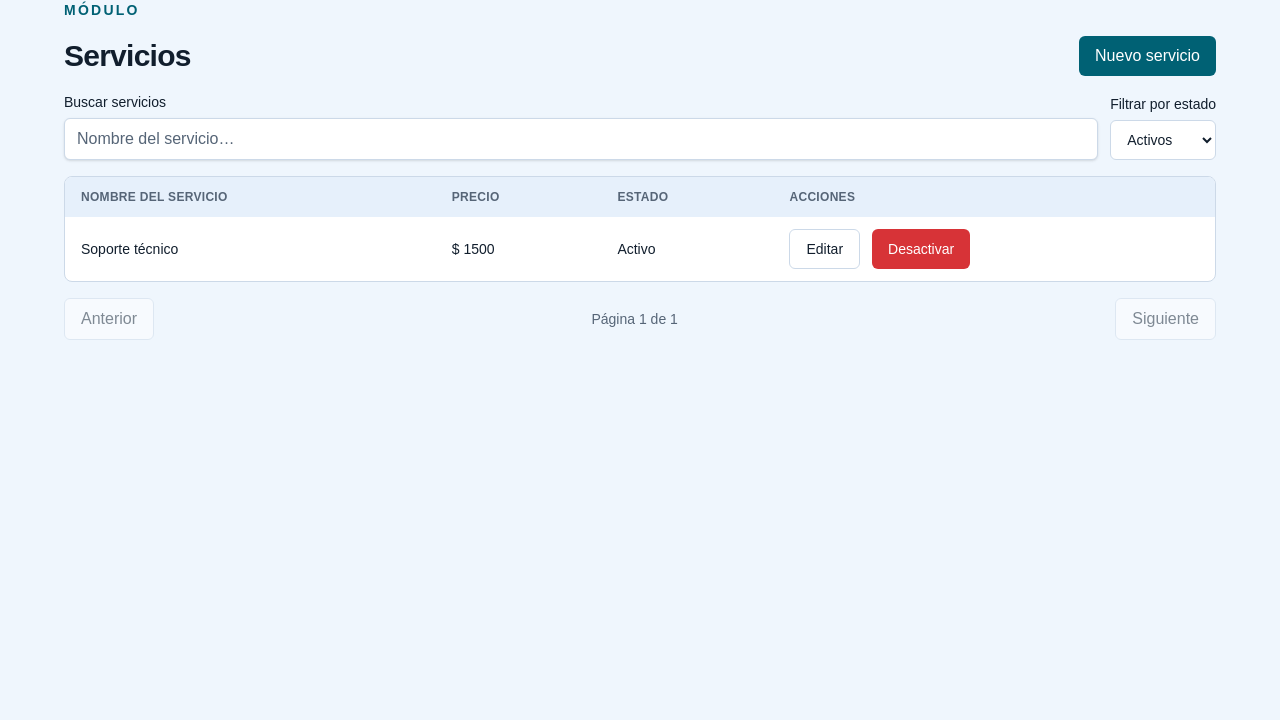
Scenario: ServiciosPage › deactivates a service through confirmation and it leaves the list
Expected: the text "Soporte técnico" is shown, [65,217,436,281]
Click the button "Desactivar": (921, 249) [872,229,970,269]
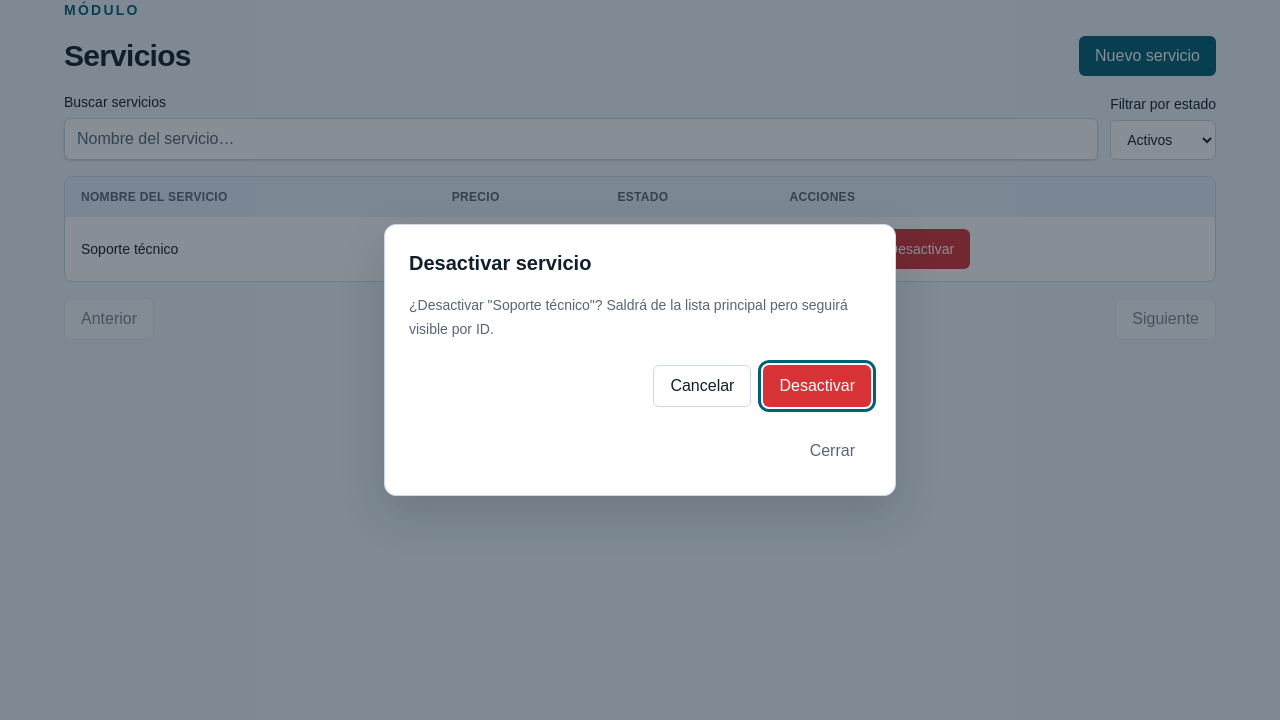
Result: the dialog shows "Soporte técnico" at [409,297,848,337]
Click the button "Desactivar": (817, 386) [763,365,871,407]
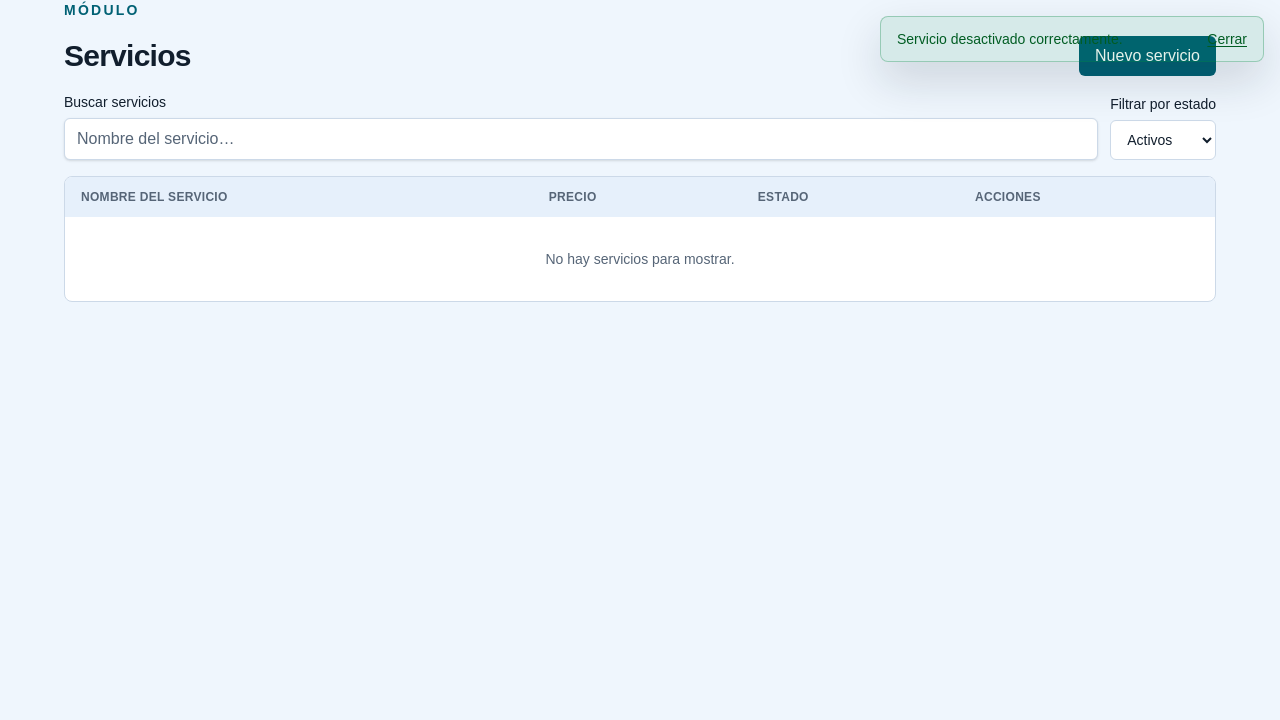
Result: the message shows "Servicio desactivado correctamente." at [897,31,1123,47]
Result: the text "Soporte técnico" is gone
